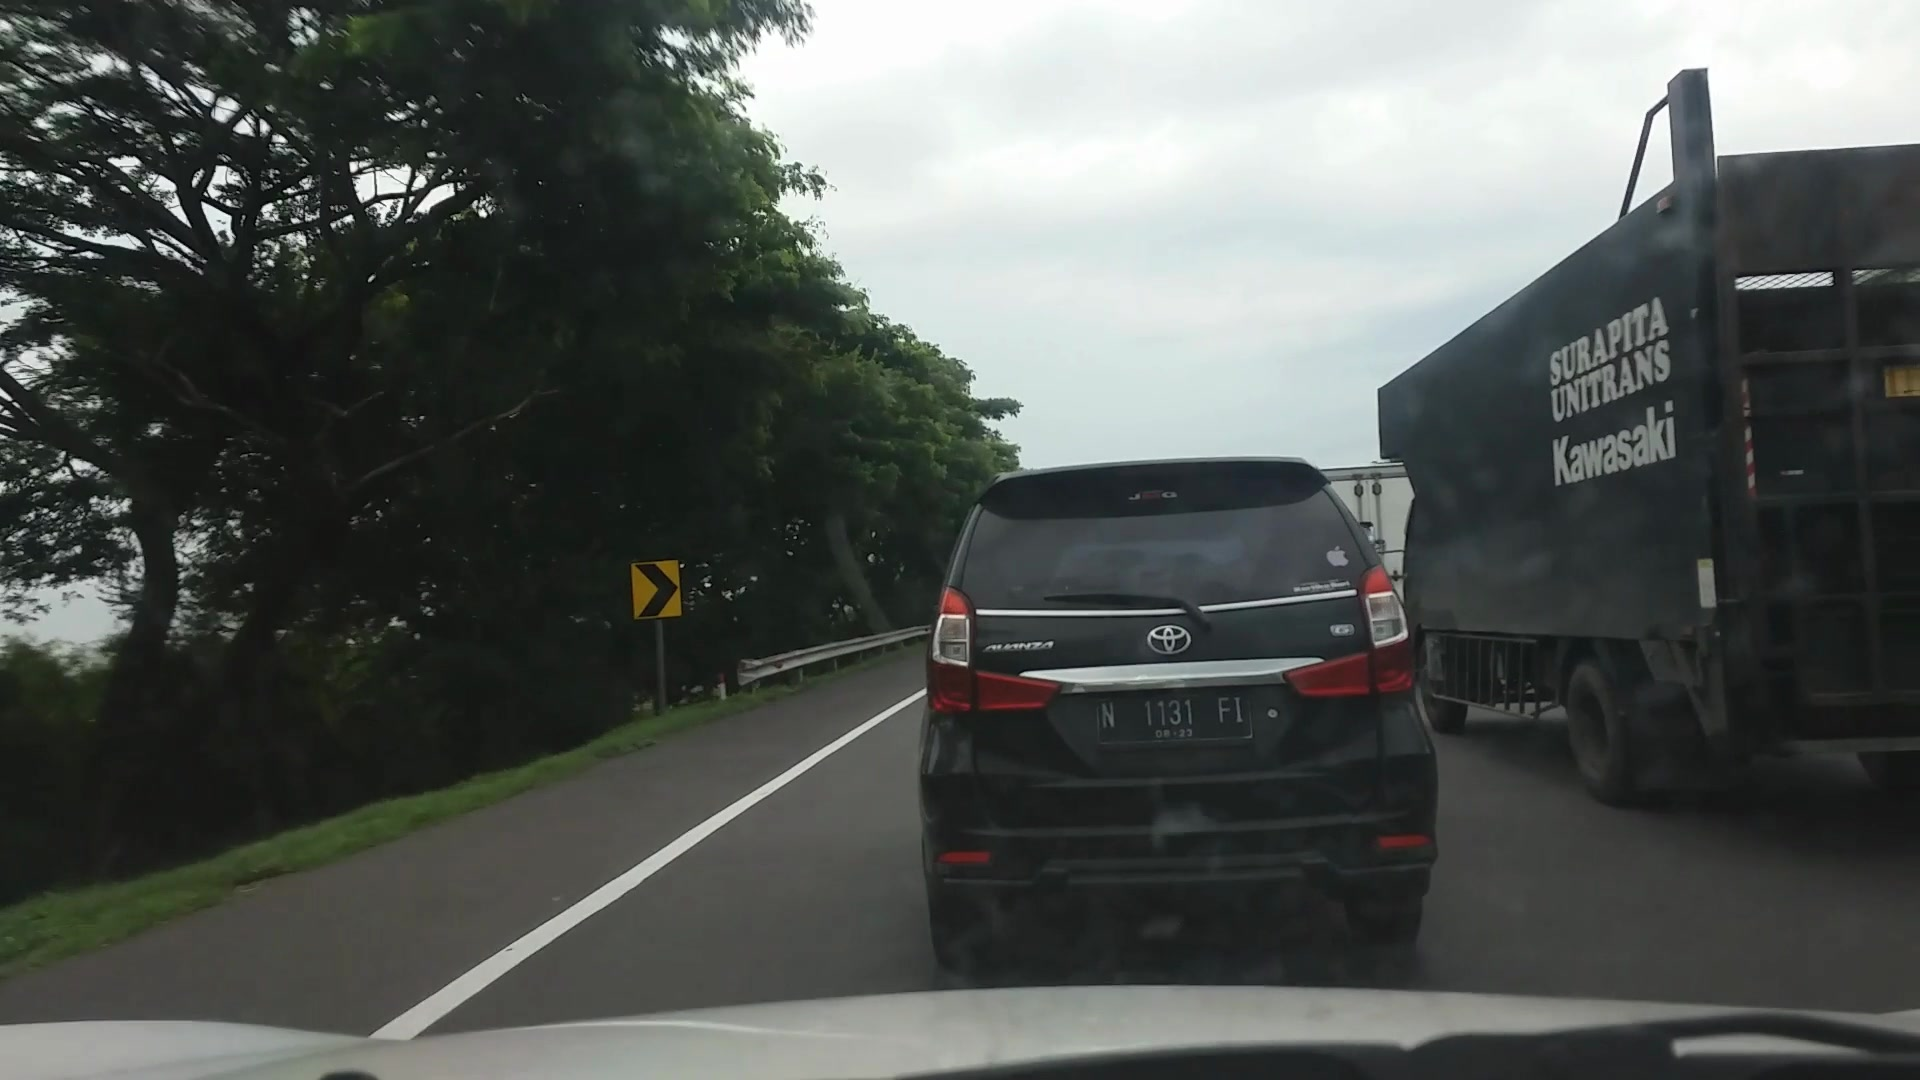plate_positive: (1096, 694, 1251, 742)
